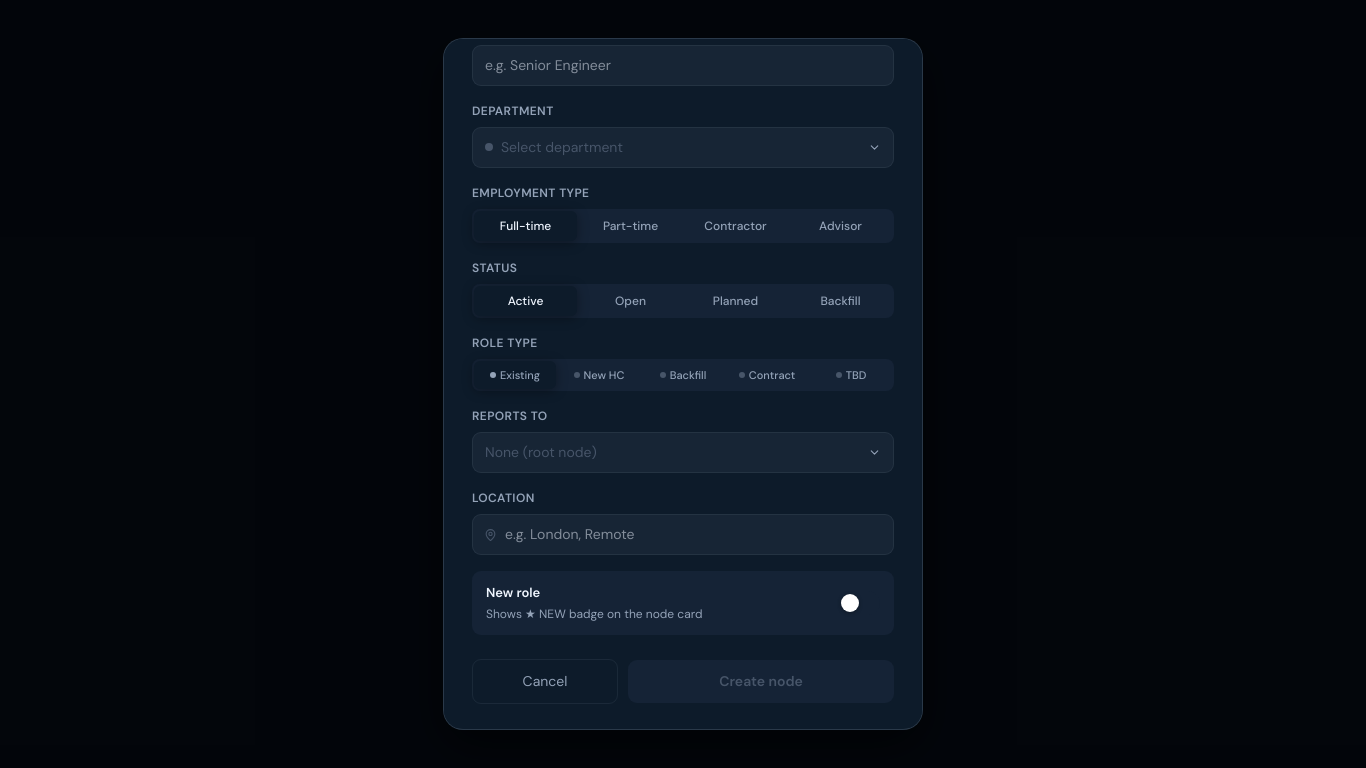
Test: add mode › shows validation errors when submitted with empty fields
This screenshot has width=1366, height=768.
(page scrolled)
Click the button "Create node" at (761, 681), box x1=628 y1=660 x2=894 y2=703
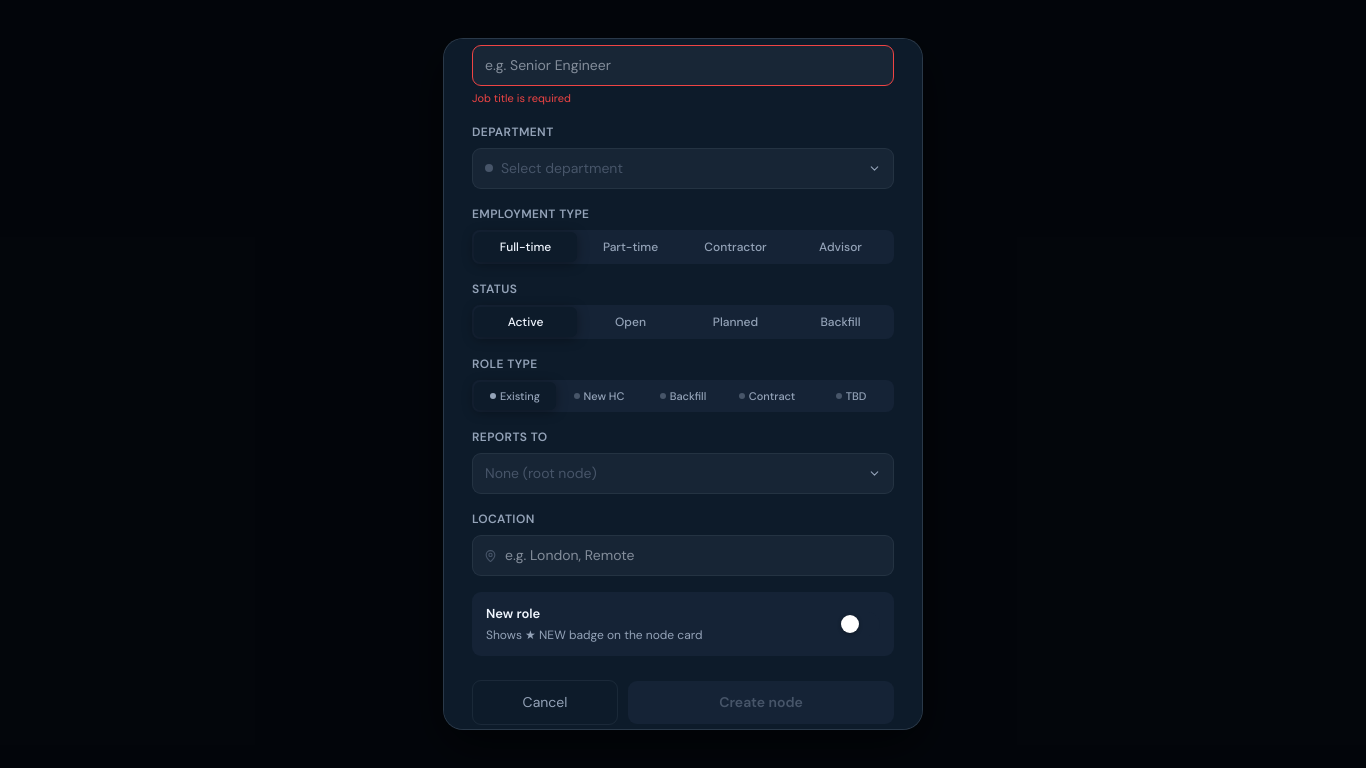
Now the text "Job title is required" is shown, box x1=472 y1=91 x2=571 y2=105
